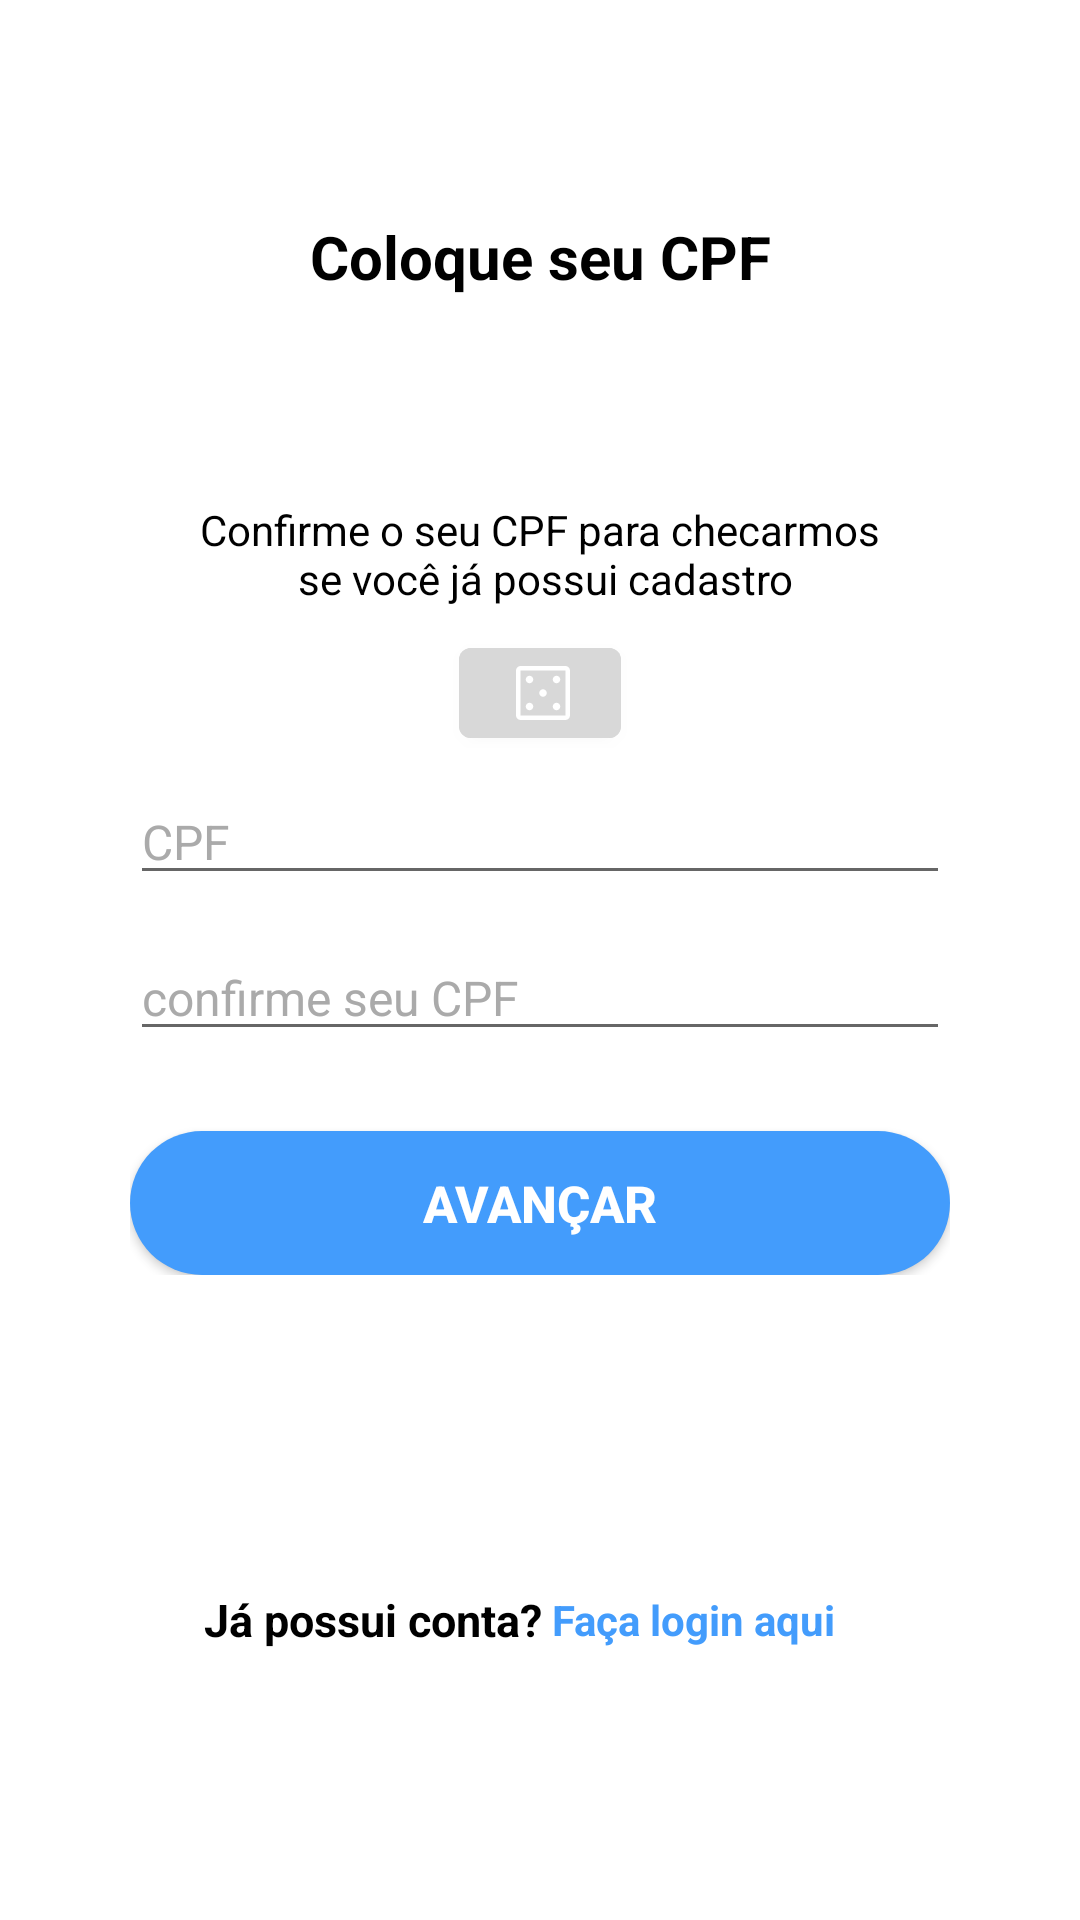

Named icons in this screenshot (1080w x 1920h) and their bounding boxes, (x1, y1, x2, y2):
dice: (459, 648, 621, 738)
